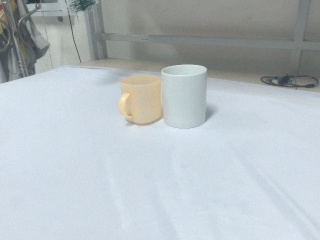cup: (160, 64, 208, 128), (118, 74, 163, 126)
